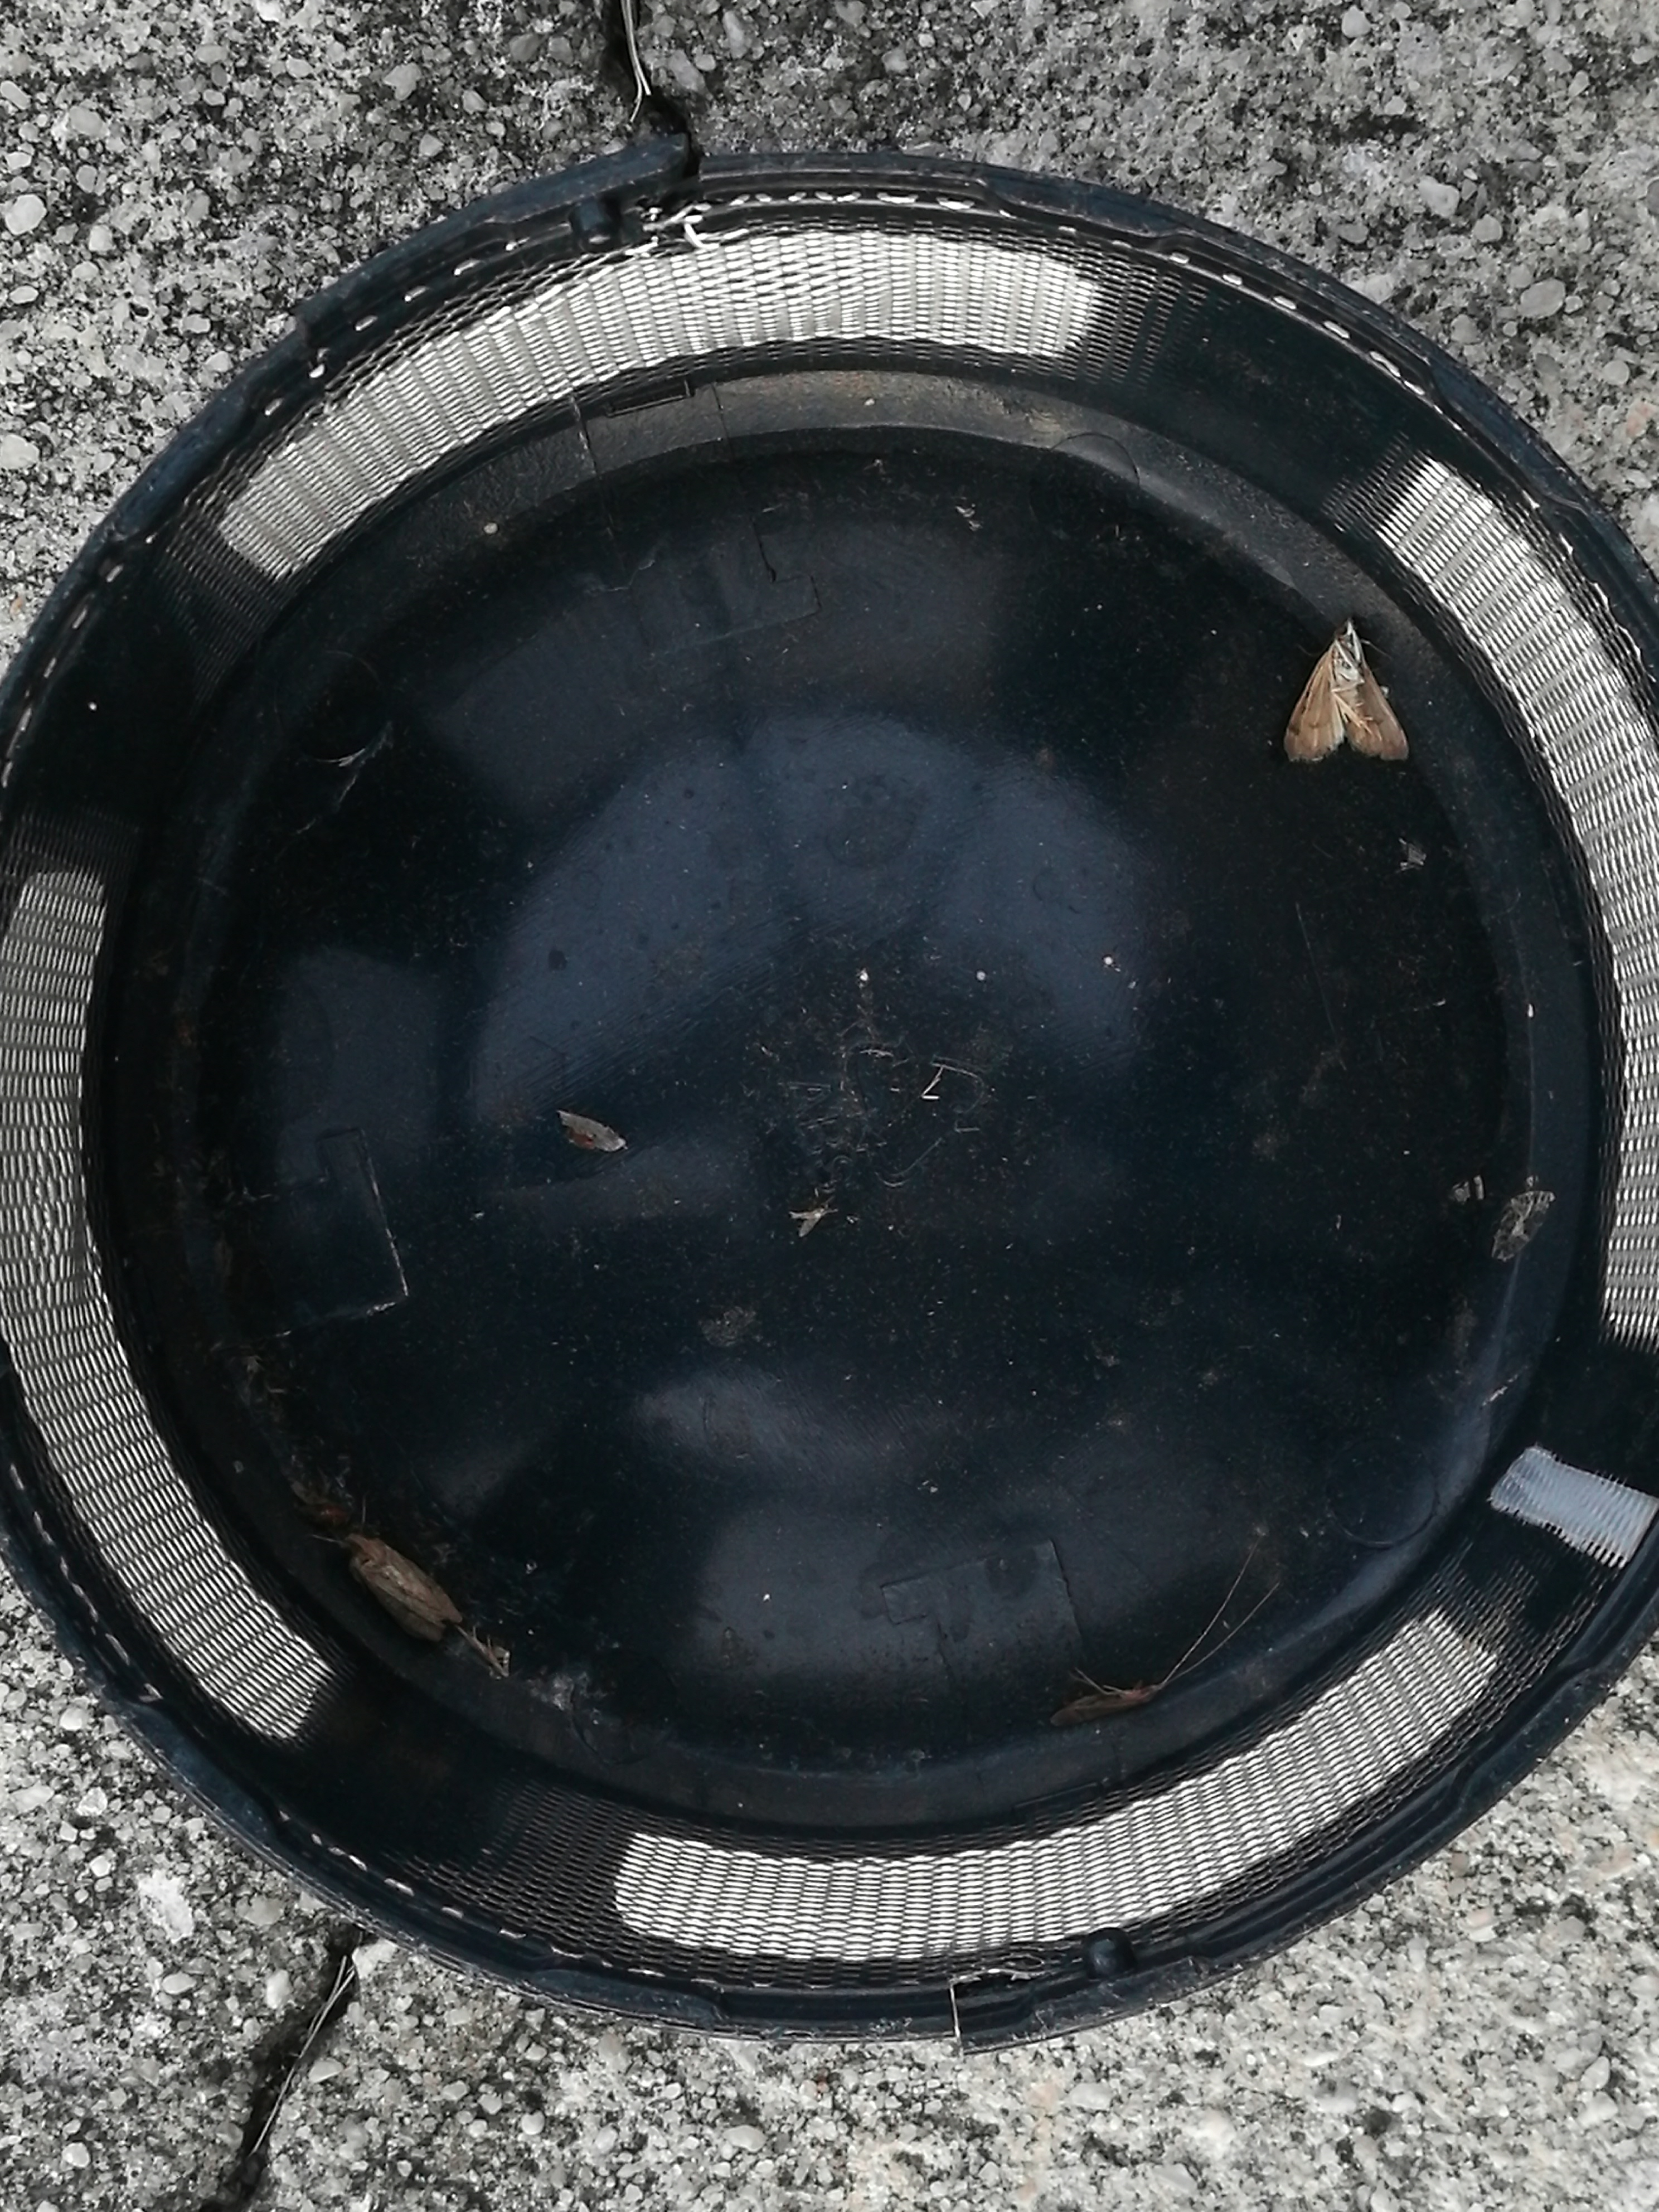mosquito: (1051, 1686, 1159, 1721)
moth: (1281, 631, 1408, 763), (345, 1533, 457, 1644)
